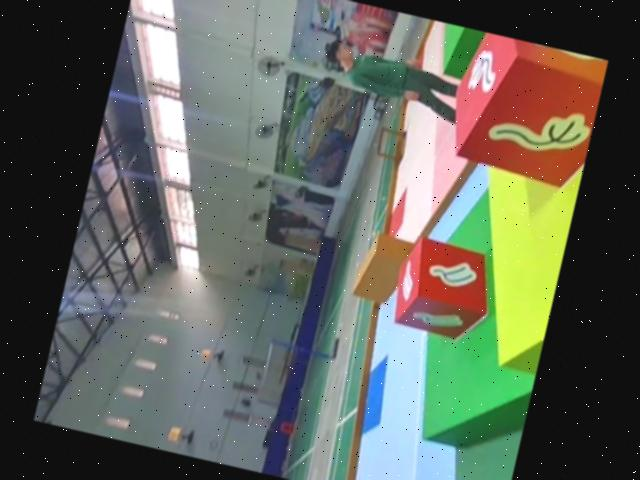R2 Real: (439, 29, 608, 193), (384, 230, 500, 346)
